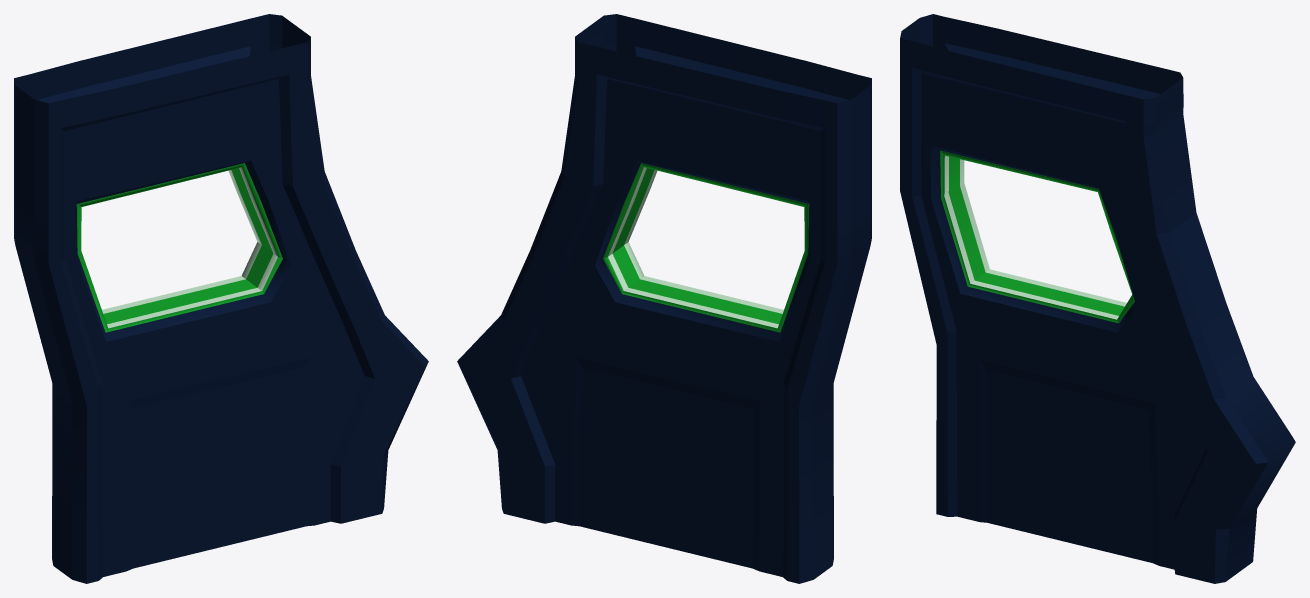
The model's file is Module_Ss_doorL_1B.FBX.
3 renders of one model, left to right at view 1: azimuth 30°, elevation 25°; view 2: azimuth 150°, elevation 25°; view 3: azimuth 330°, elevation 25°, orthographic. The views are drawn at different scales.
Visible parts, largest first — view 1: Module_Ss_doorL_1Ba; view 2: Module_Ss_doorL_1Ba; view 3: Module_Ss_doorL_1Ba.
Boxes of the visible parts, bbox=[...] form: Module_Ss_doorL_1Ba: bbox=[14, 14, 428, 583]; Module_Ss_doorL_1Ba: bbox=[457, 14, 871, 583]; Module_Ss_doorL_1Ba: bbox=[900, 14, 1295, 583].
Size of the model in its own units: 62.59 by 75.2 by 10.74.
